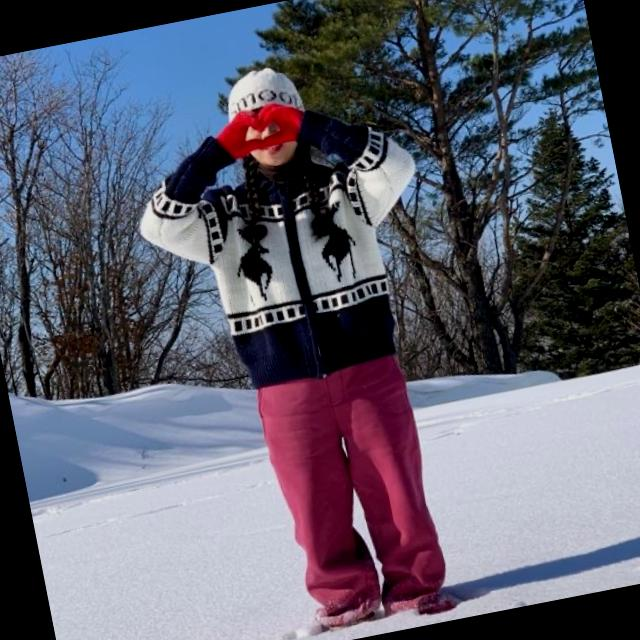cardigan: (122, 94, 456, 405)
cottonpants: (251, 352, 453, 626)
